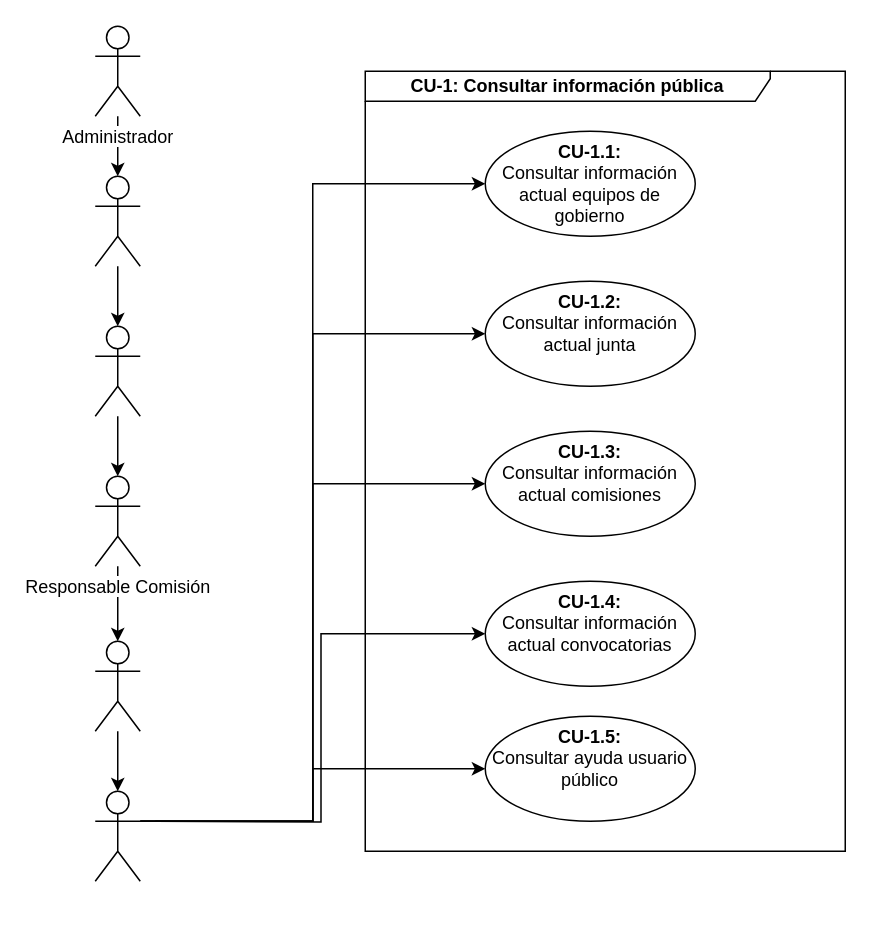
The diagram is 872 pixels wide and 939 high, and some of its shapes have lost their labels. Here are the shapes that lost their labels. From the top down, the centre of each, then its label:
At [117,220]: "Responsable Centro".
At [117,370]: "Responsable Junta".
At [117,685]: "Usuario registrado".
At [117,835]: "Usuario público".
